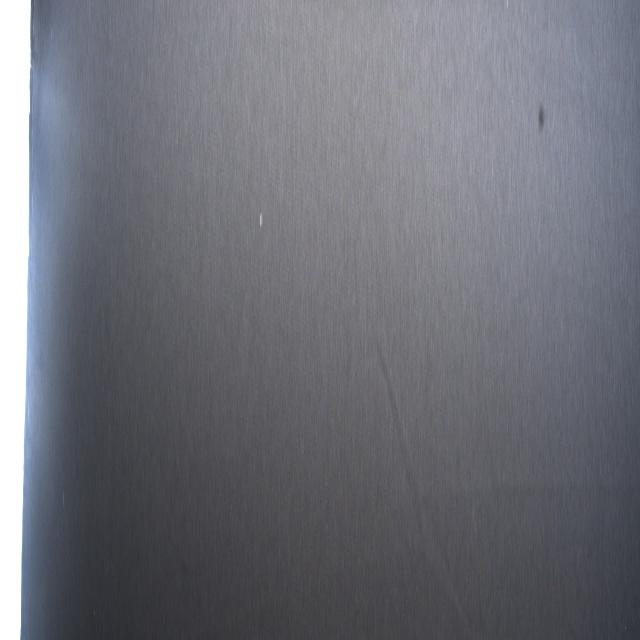crease: (370, 314, 478, 638), (448, 451, 640, 541)
whiteDefect: (258, 202, 266, 234), (61, 484, 67, 514)
